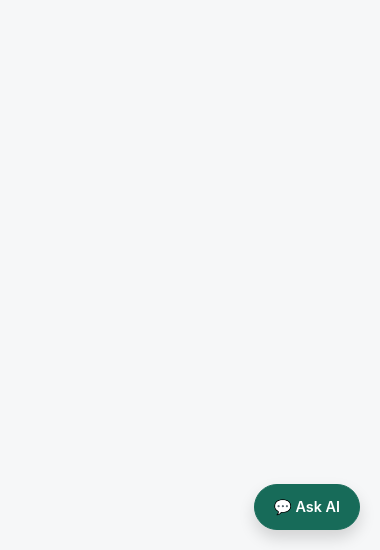
Test case: ChatAssistant › sends the earlier conversation along, so follow-up questions work
This screenshot has width=380, height=550.
Later steps or results of the test are not shown.
Click the button "💬 Ask AI" at (307, 507), box [254,484,360,530]
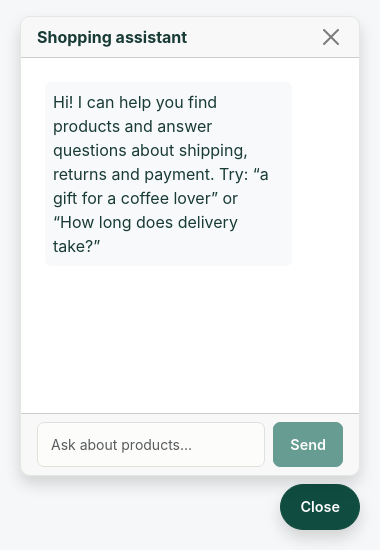
Type "Do you sell phones?" into the field named "Message the shopping assistant" at (151, 445), box [37,422,265,467]
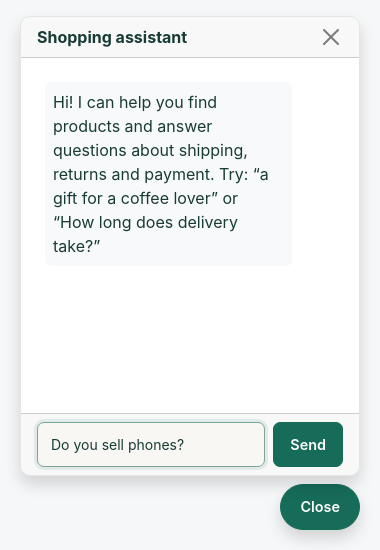
Click the button "Send" at (308, 445), box [273,422,343,467]
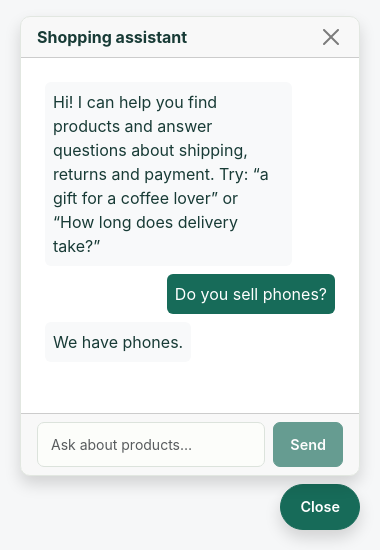
expect the text "We have phones." is shown: met, box [45,322,191,362]
